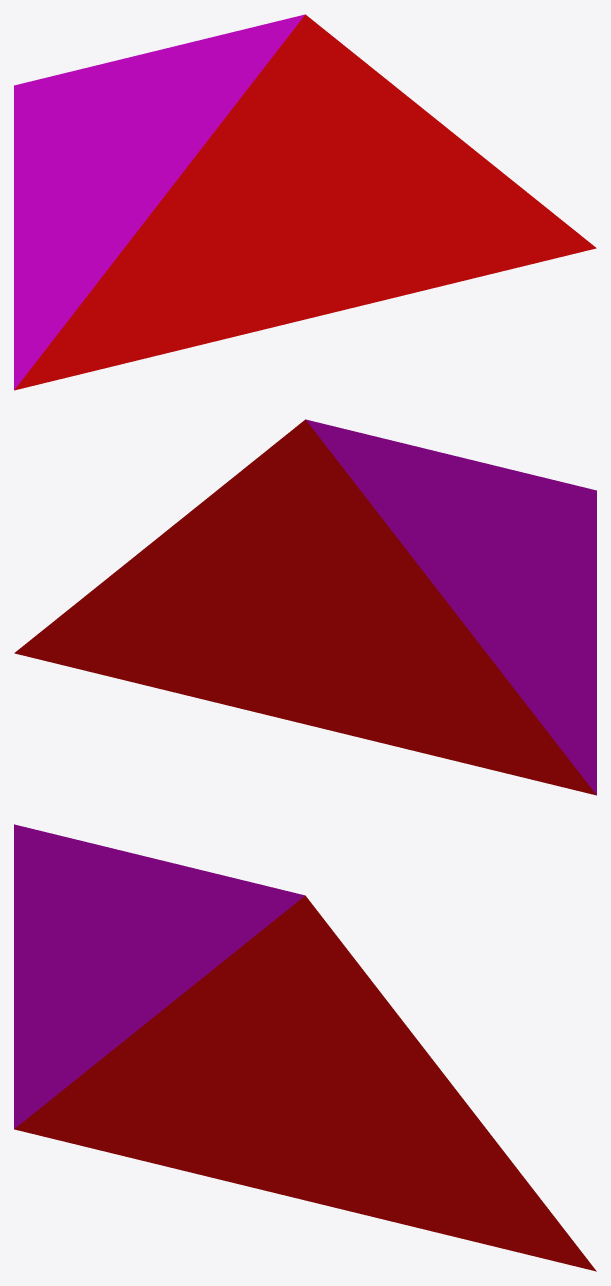
Rendered from two_triangles.glb.
3 renders of one model, top to bottom at view 1: azimuth 30°, elevation 25°; view 2: azimuth 150°, elevation 25°; view 3: azimuth 330°, elevation 25°, orthographic.
Parts seen in each view (by area): view 1: mesh; view 2: mesh; view 3: mesh.
Part boxes in pixels (left/top/right/bottom): mesh: left=14, top=14, right=596, bottom=390; mesh: left=14, top=419, right=596, bottom=795; mesh: left=14, top=824, right=596, bottom=1271.
Bounding box in the file's own units: 20 × 10 × 0.
